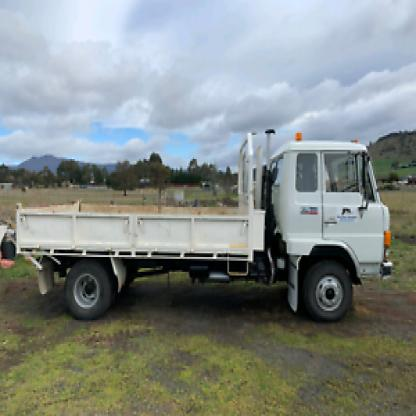dump_truck: (13, 107, 402, 335)
